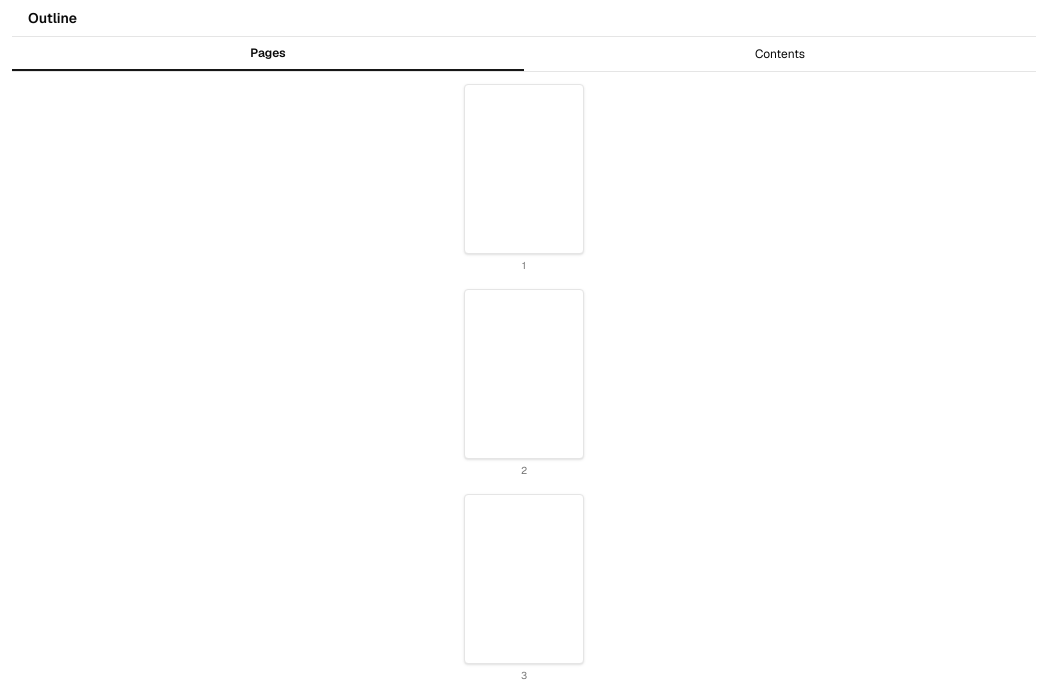
Test case: OutlineSidebar › shows empty-state copy in Contents when no outline exists
Click the tab "Contents" at (780, 54), box [524,37,1036,71]
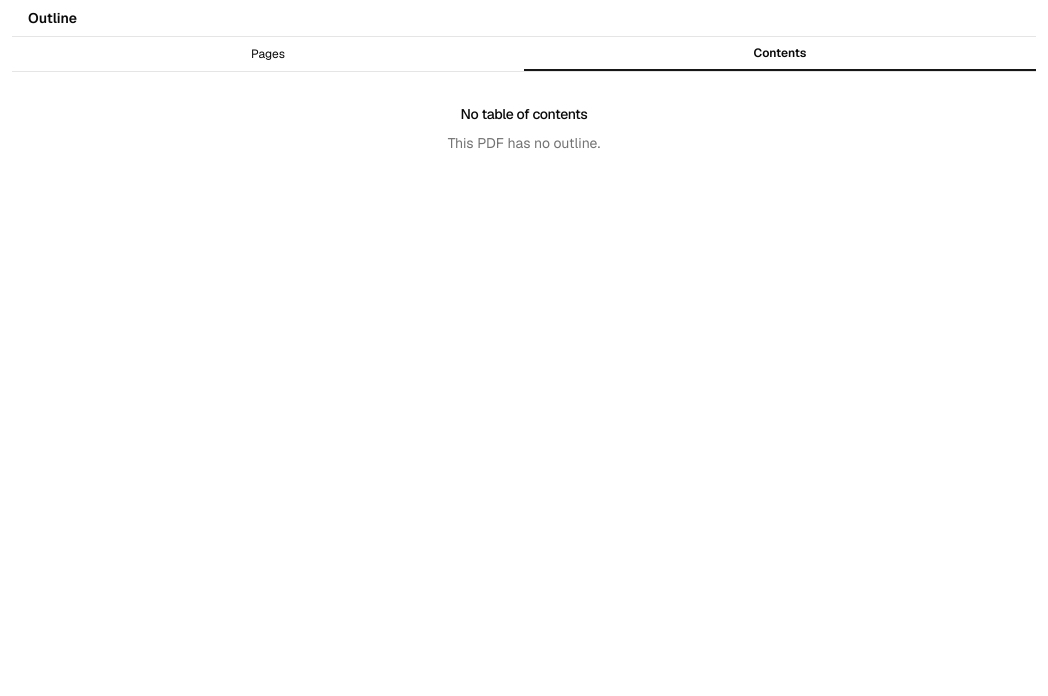
Now the text "No table of contents" is shown, box [461,104,588,124]
